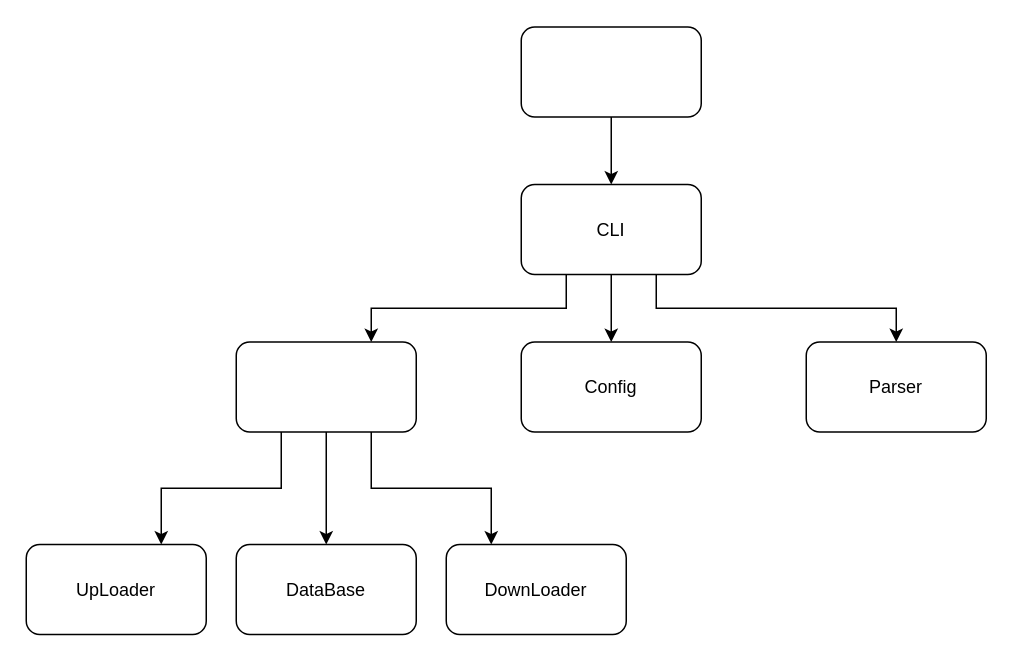
Some shapes in this 1013 by 660 pixel diagram are drawn without their labels. Here are the shapes that lost their labels. From the top down, the centre of each, then its label:
[610,71]: Server
[325,386]: Network
